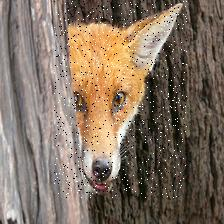fox: (54, 0, 187, 198)
